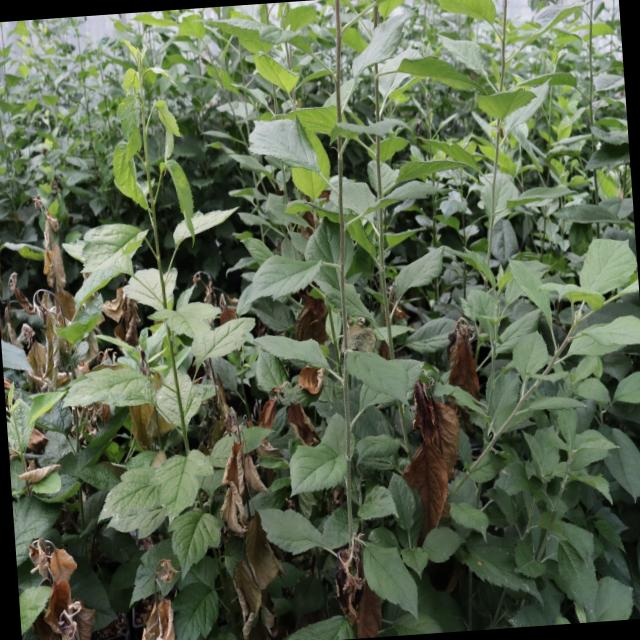-FireBlight-: (34, 197, 75, 392), (412, 384, 464, 530), (25, 537, 93, 640), (222, 416, 266, 536), (233, 540, 276, 632), (137, 562, 179, 640), (447, 322, 485, 398), (104, 294, 140, 340), (290, 406, 316, 444), (254, 400, 283, 426), (299, 365, 324, 392)
